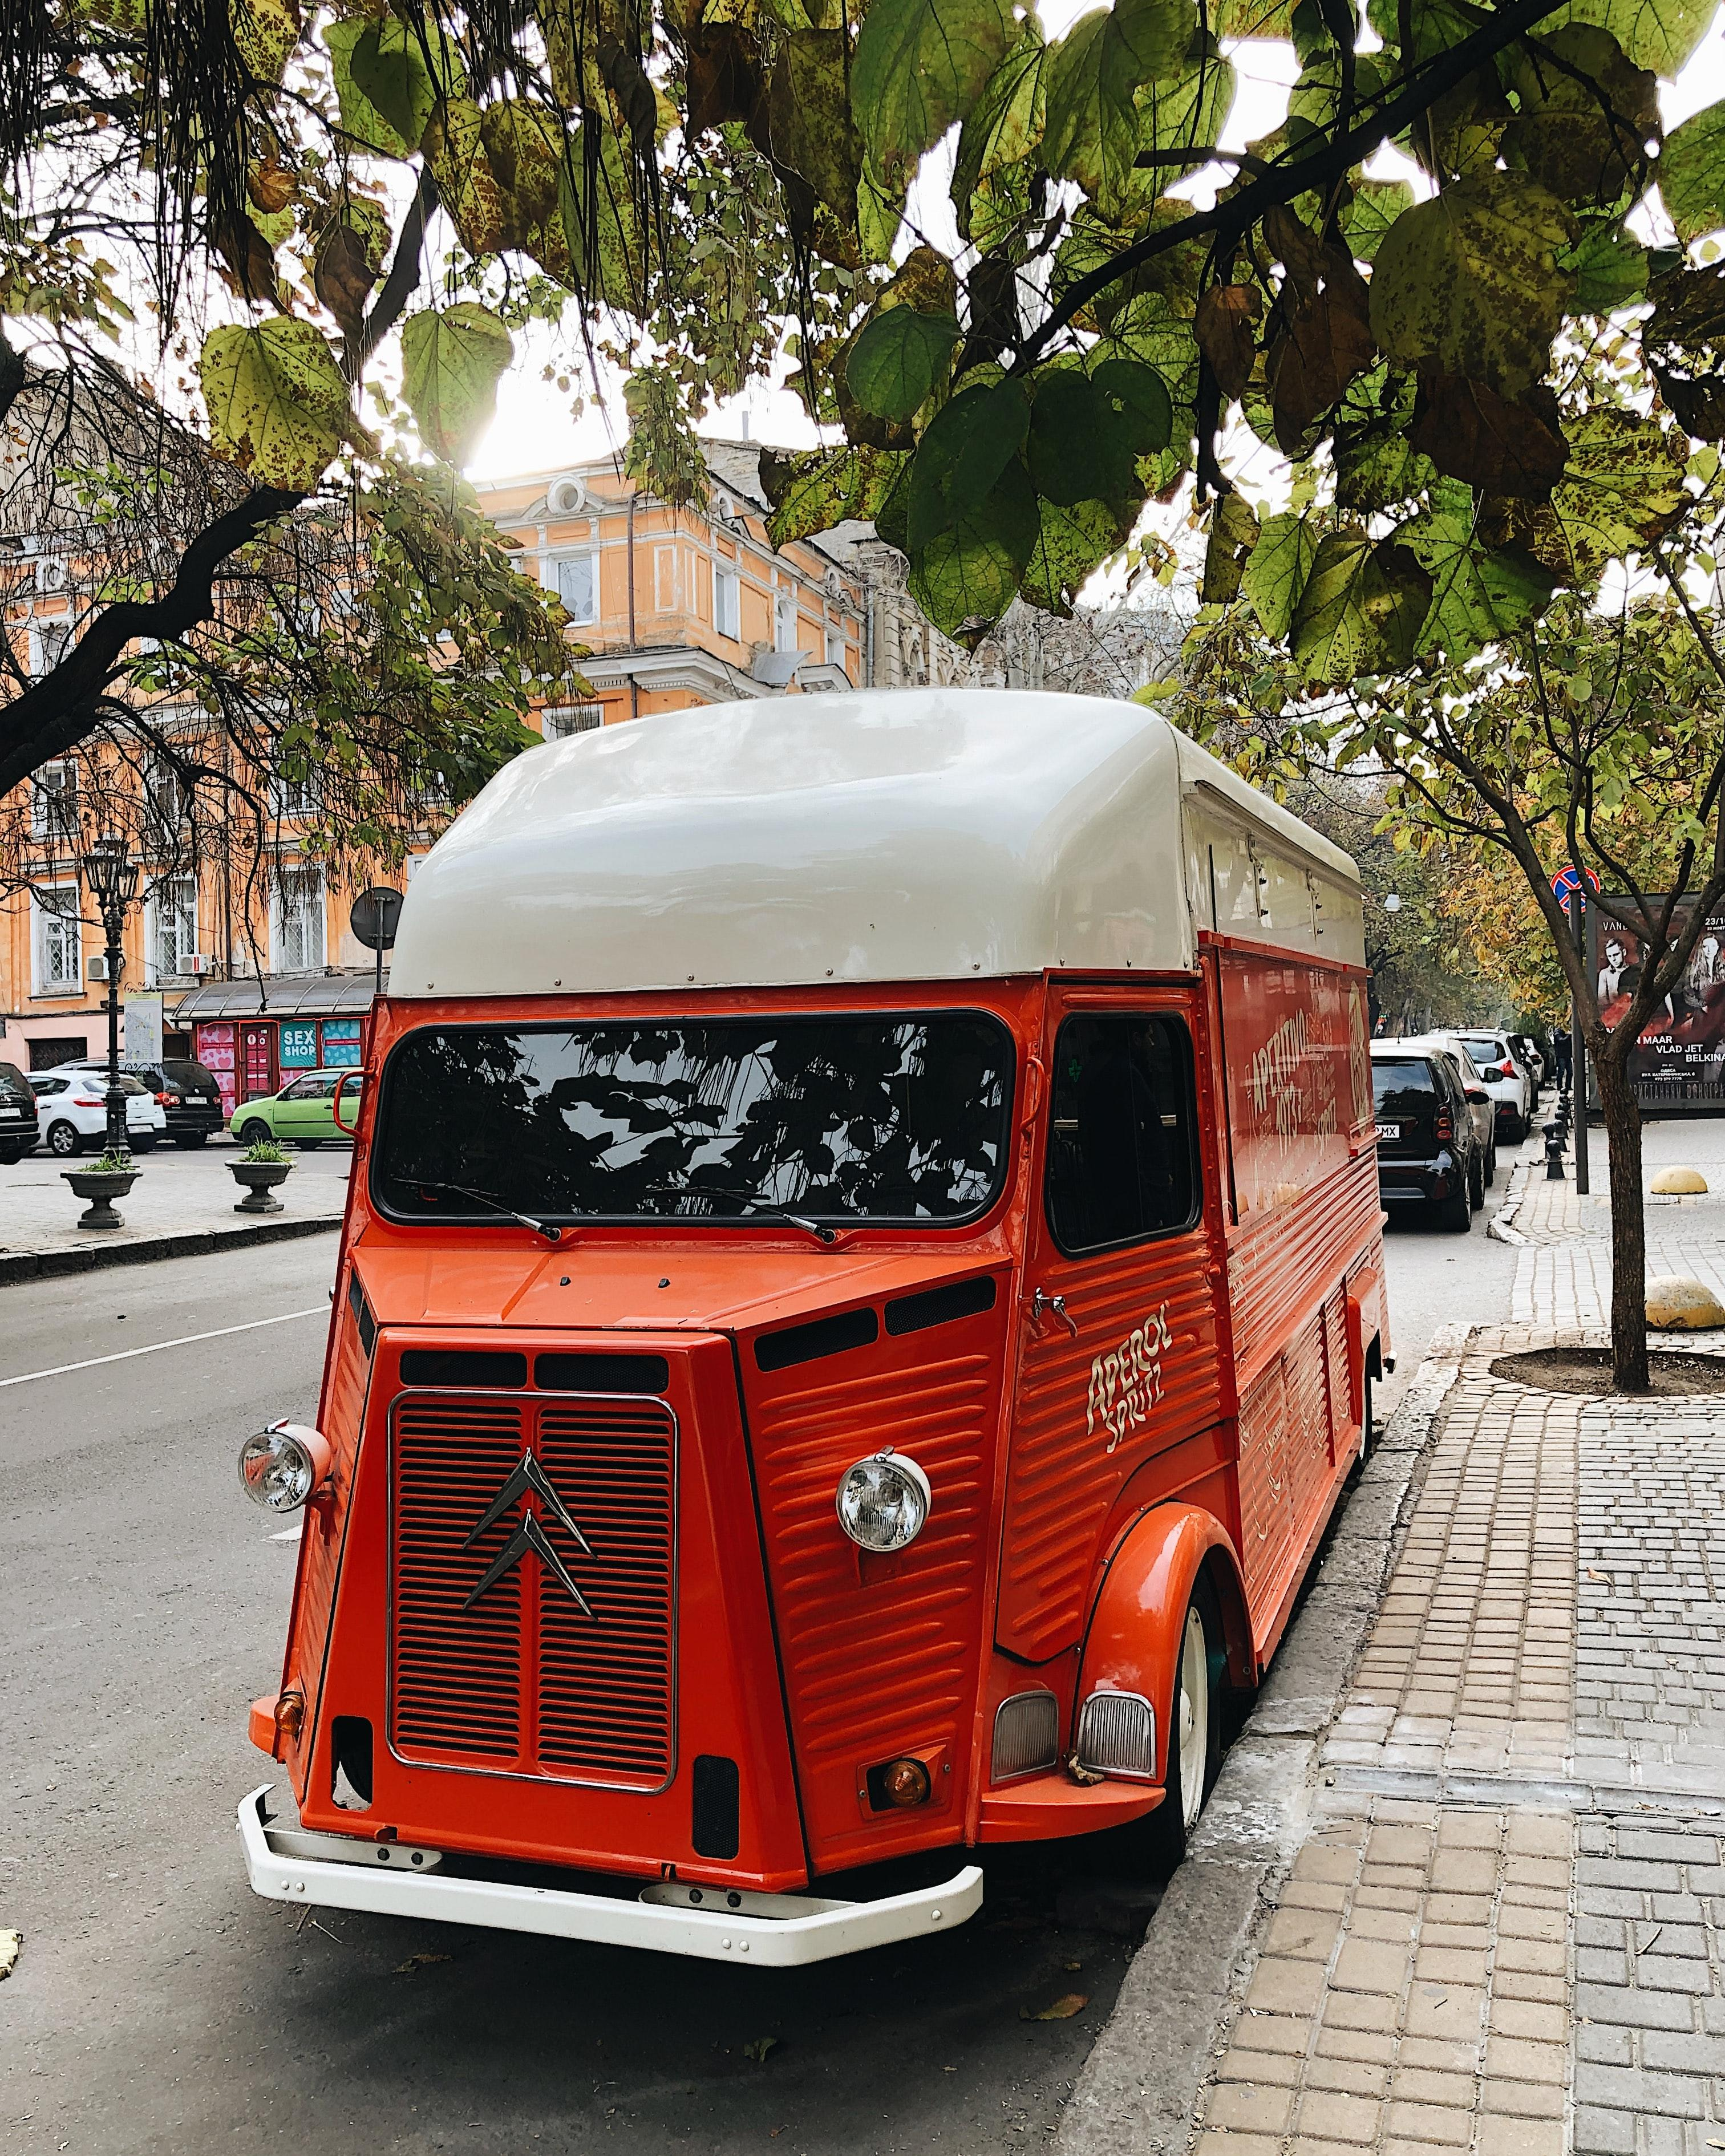Citroen: (437, 1431, 623, 1639)
